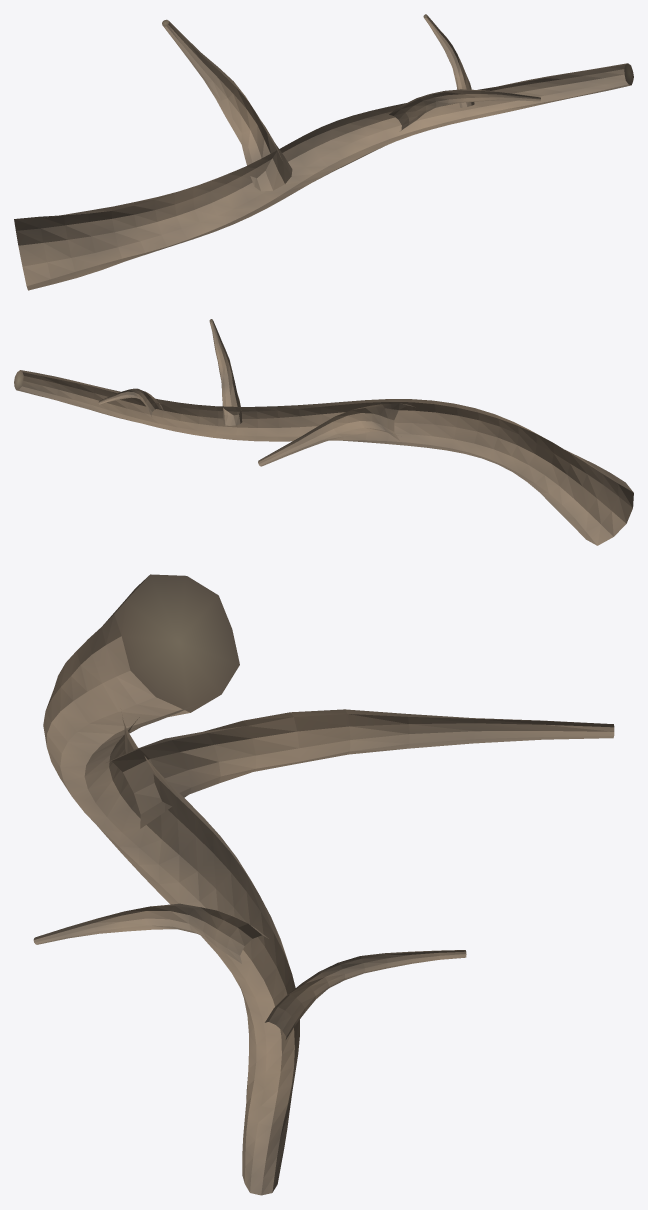
The model's file is stick_forest_02_snap.glb.
3 renders of one model, top to bottom at view 1: azimuth 30°, elevation 25°; view 2: azimuth 150°, elevation 25°; view 3: azimuth 270°, elevation 25°, orthographic. The views are drawn at different scales.
Visible parts, largest first — view 1: stick_forest_02_snap; view 2: stick_forest_02_snap; view 3: stick_forest_02_snap.
Part boxes in pixels (left/top/right/bottom): stick_forest_02_snap: left=14, top=14, right=633, bottom=290; stick_forest_02_snap: left=14, top=319, right=633, bottom=545; stick_forest_02_snap: left=33, top=574, right=614, bottom=1195.
Size of the model in its own units: 0.4909 by 0.0862 by 0.2122.
